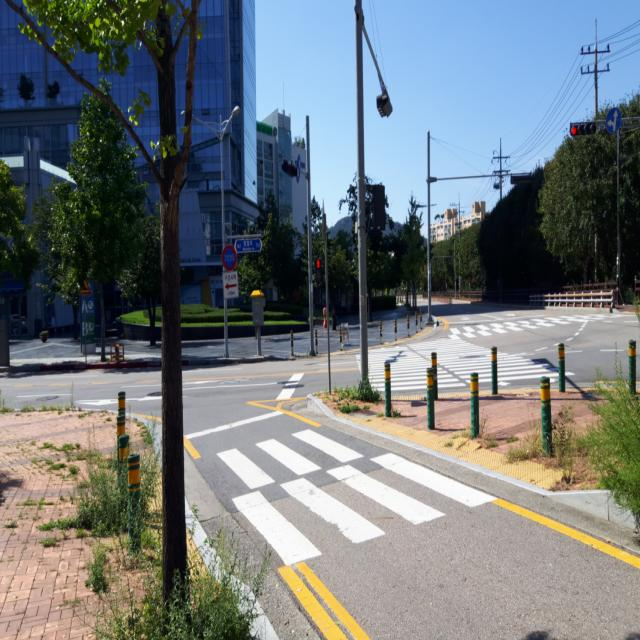빨간불: (313, 258, 325, 282)
횡단보도: (215, 426, 500, 568), (356, 337, 577, 394), (440, 298, 630, 335)
